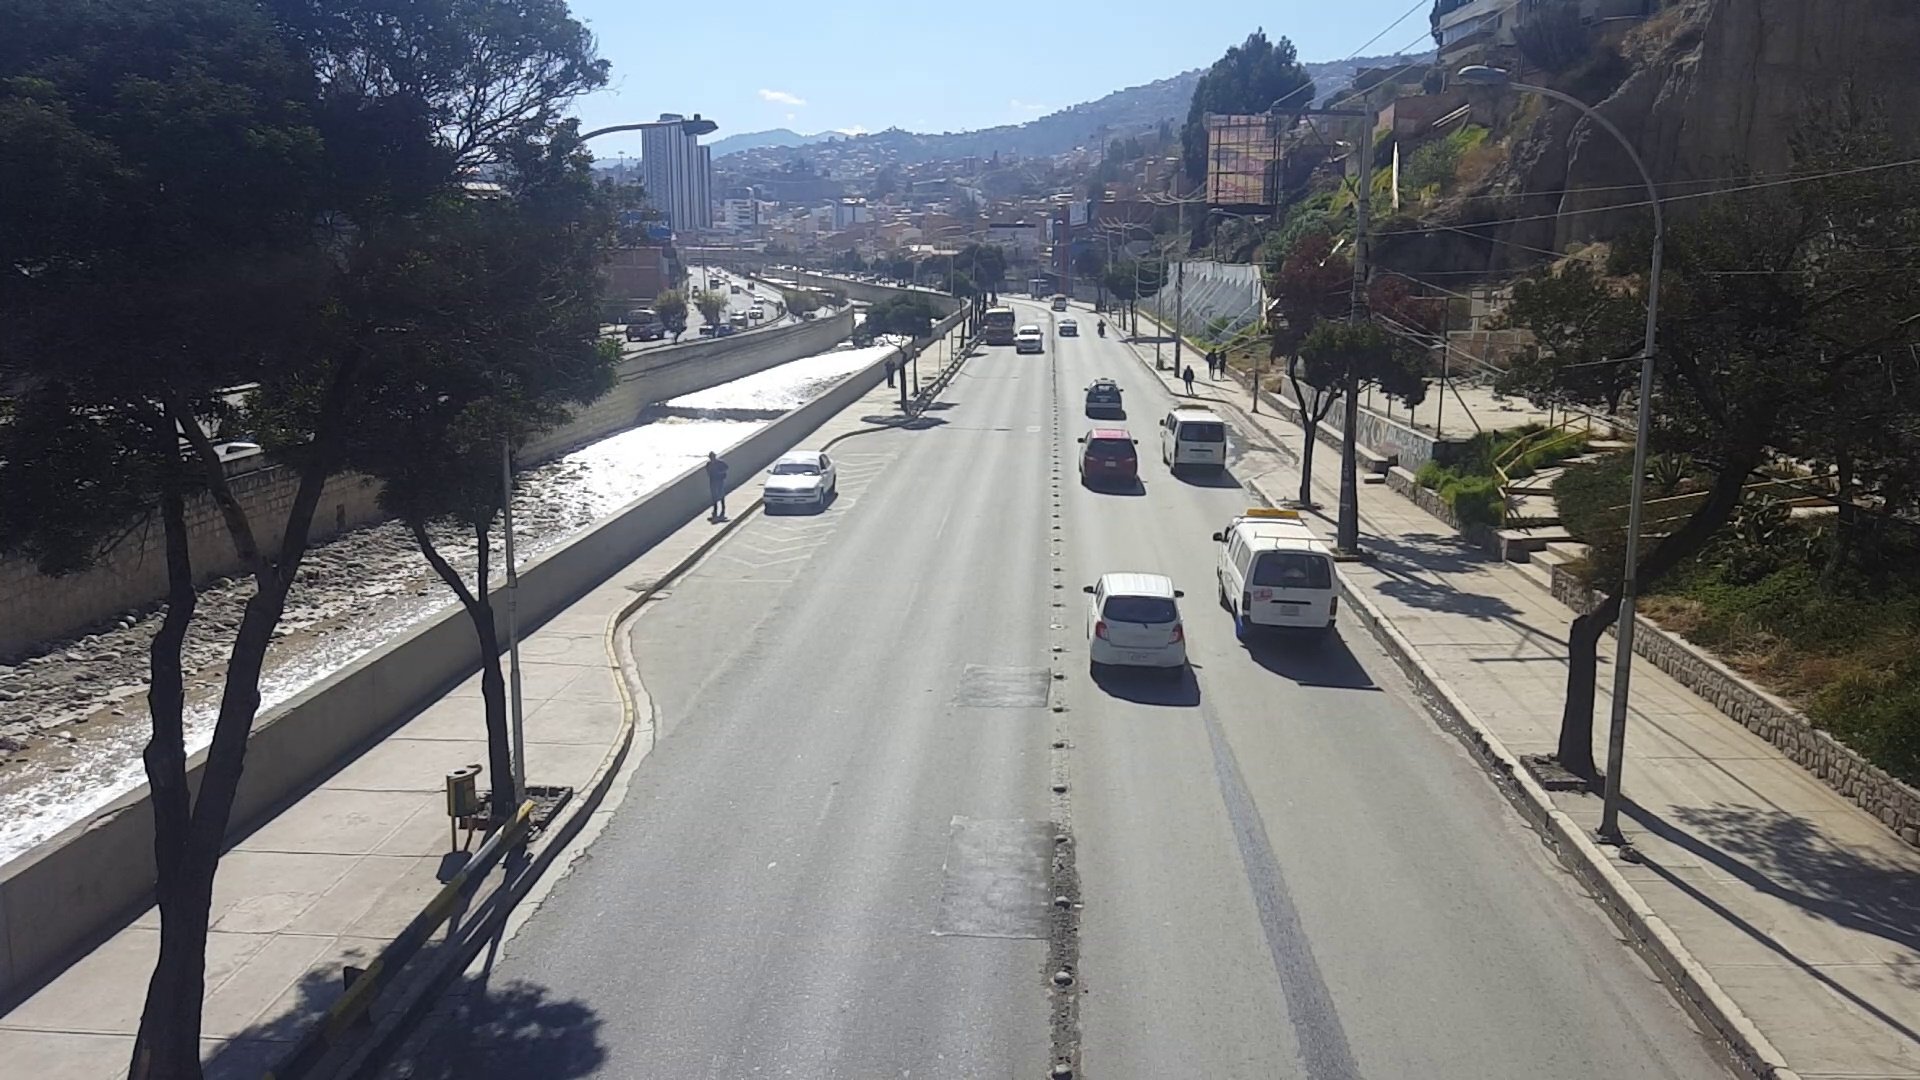automovil: (1080, 568, 1189, 670), (1076, 429, 1139, 484)
minibus: (1211, 506, 1338, 644), (1158, 401, 1229, 475)
